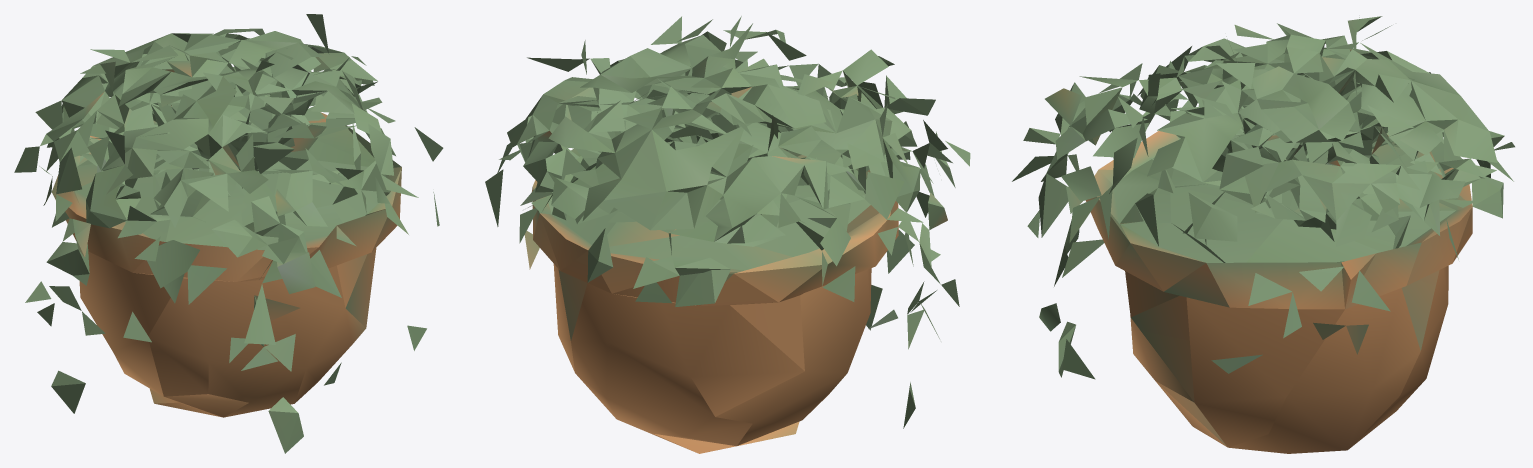
Rendered from herb_pot.glb.
The picture shows the model from 3 angles, left to right: view 1: azimuth 30°, elevation 25°; view 2: azimuth 150°, elevation 25°; view 3: azimuth 270°, elevation 25°; orthographic projection. The views are drawn at different scales.
Visible parts, largest first — view 1: geometry_0; view 2: geometry_0; view 3: geometry_0.
Boxes of the visible parts, box(x1,y1,x2,y2) form: geometry_0: box(14, 14, 443, 453); geometry_0: box(485, 16, 970, 453); geometry_0: box(1012, 16, 1514, 453).
Bounding box in the file's own units: 0.5043 × 0.4 × 0.4804.
